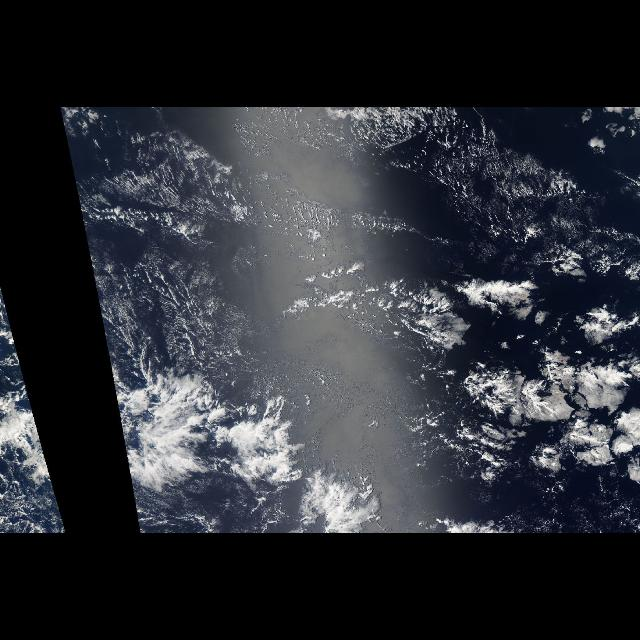Flower: (125, 282, 640, 530)
Sugar: (61, 113, 604, 381)
